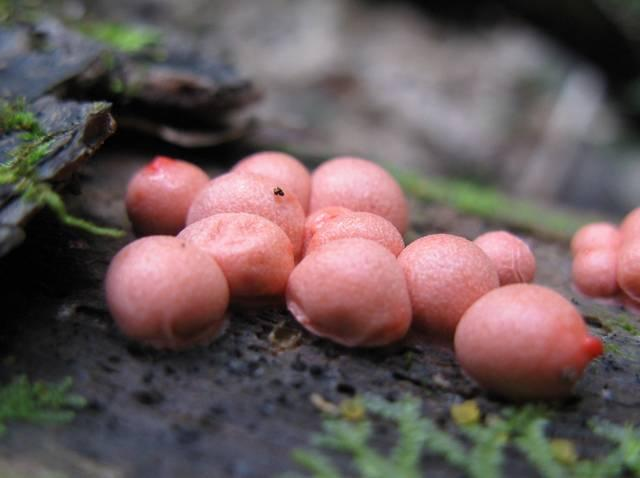Non-edible Mushroom: (103, 148, 604, 400), (452, 281, 604, 401), (103, 233, 230, 350), (284, 236, 413, 348), (175, 210, 294, 305), (396, 232, 499, 337), (184, 170, 305, 257), (307, 154, 409, 234), (123, 154, 209, 235), (569, 220, 620, 297), (471, 229, 536, 284), (615, 229, 639, 306)
